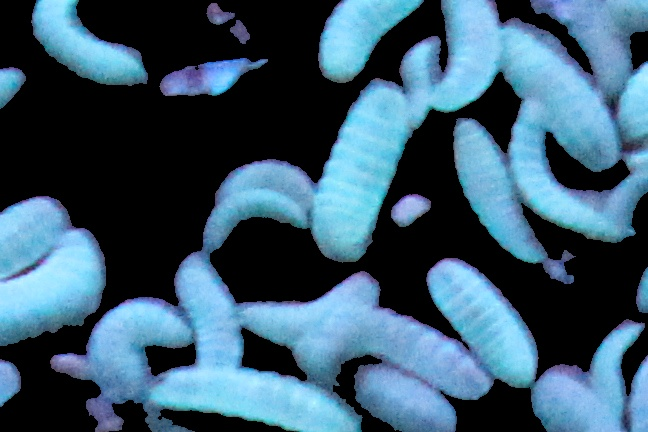larvae: (310, 84, 415, 261), (502, 21, 620, 165), (509, 100, 631, 237), (424, 256, 539, 389), (147, 369, 361, 432), (348, 308, 493, 399), (1, 224, 104, 352), (451, 119, 544, 260), (87, 298, 192, 396), (32, 1, 145, 87), (238, 272, 379, 340), (317, 1, 427, 81), (174, 254, 249, 369), (581, 314, 644, 432), (548, 2, 632, 88), (357, 362, 458, 432), (438, 1, 501, 110), (202, 191, 309, 249), (1, 197, 74, 280), (529, 367, 609, 432), (289, 315, 359, 384), (398, 36, 443, 128), (215, 164, 315, 204), (1, 66, 27, 109)
